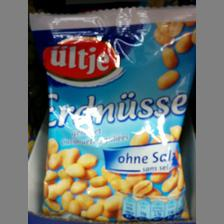Nuss: (28, 4, 194, 224)
